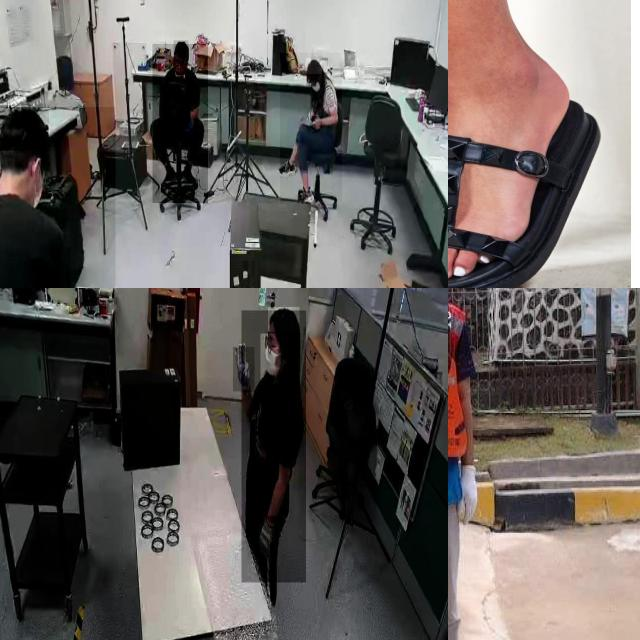Sandals: (448, 75, 602, 288)
face_mask: (260, 334, 284, 384)
face_nomask: (174, 56, 186, 76)
glasses: (262, 332, 272, 358), (174, 57, 188, 70)
hand_glove: (458, 463, 482, 528), (233, 347, 255, 392), (256, 516, 278, 558)
hand_noglove: (310, 116, 323, 129)
head_nohelmet: (0, 106, 49, 151), (268, 307, 300, 333), (306, 58, 322, 75), (173, 40, 189, 56)
person: (0, 107, 115, 288), (448, 288, 499, 640), (242, 311, 306, 584), (280, 53, 342, 202), (152, 44, 208, 204)
shoes: (158, 161, 178, 193), (182, 160, 198, 193), (276, 157, 300, 178), (295, 187, 318, 206)
